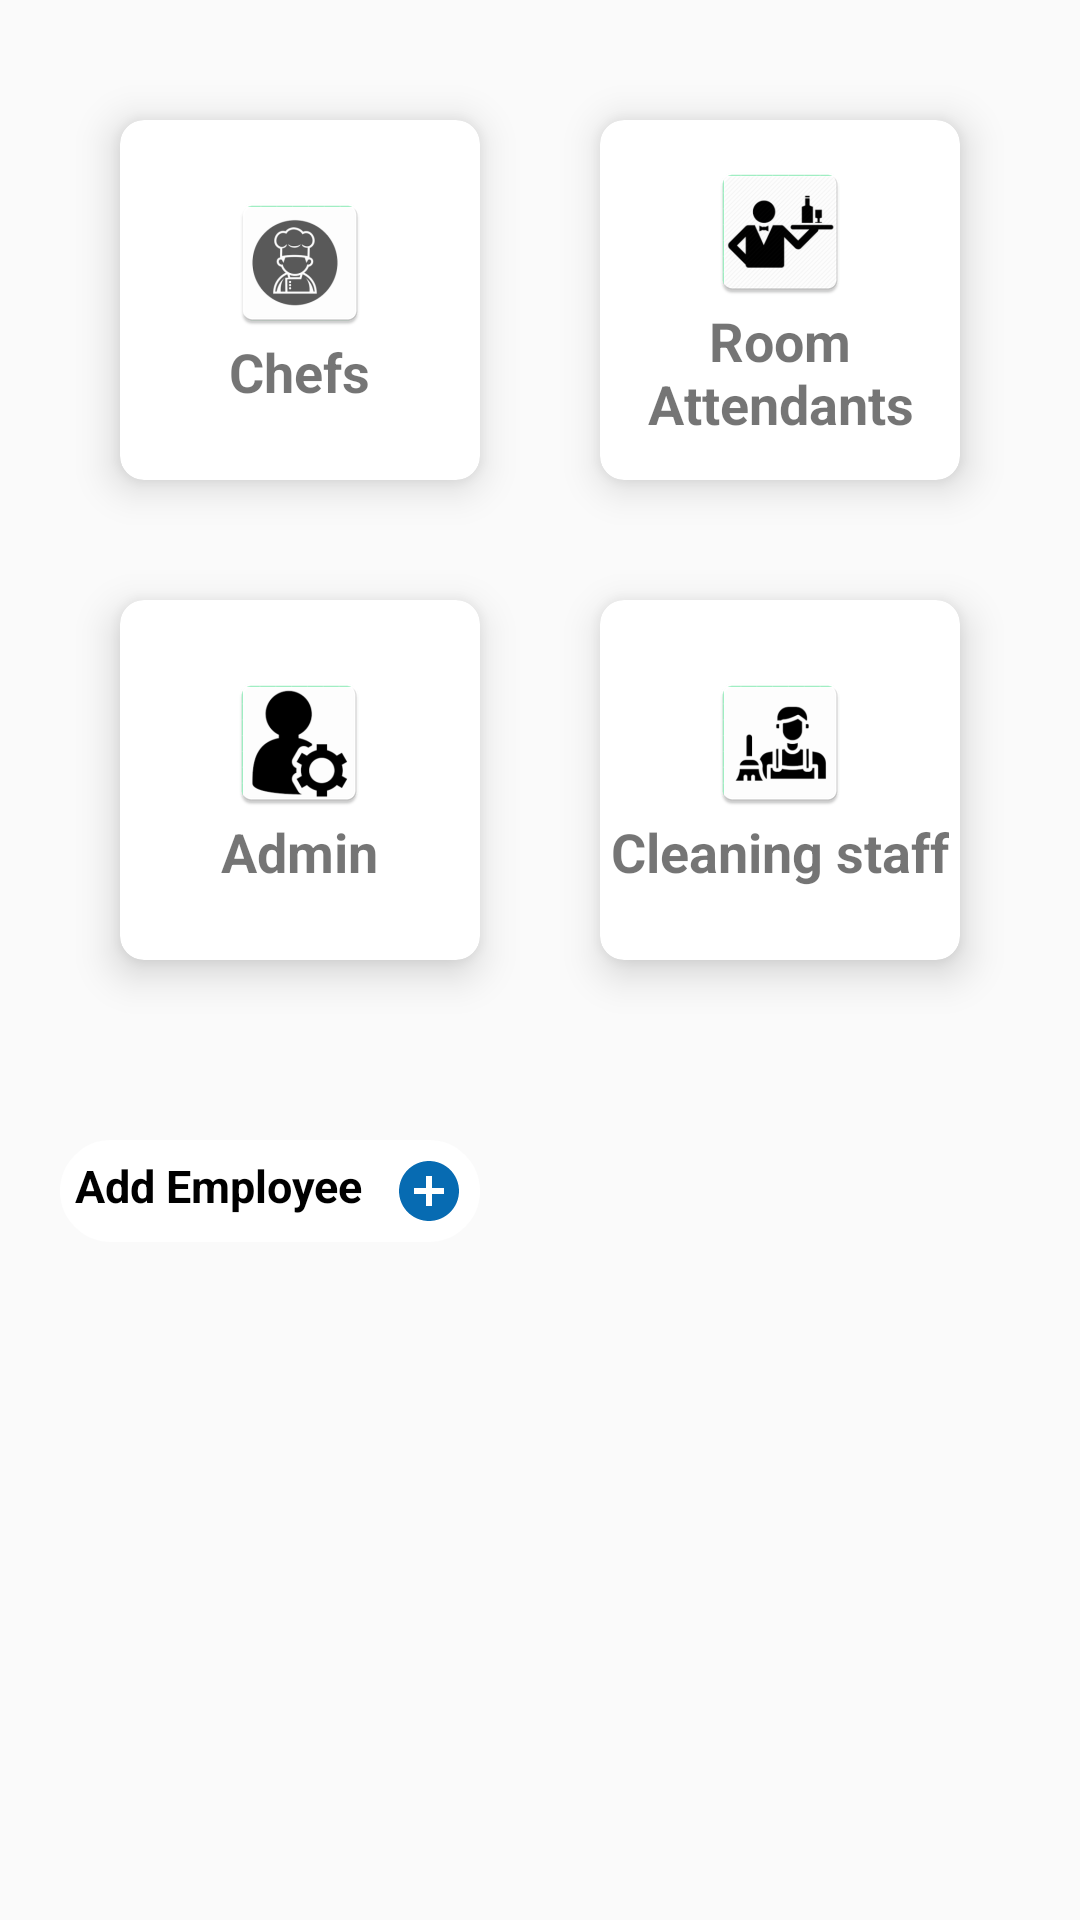

Where icons sit on this 1080 × 1920 app screen, as (x1, y1, x2, y2):
waiter: (722, 174, 838, 293)
